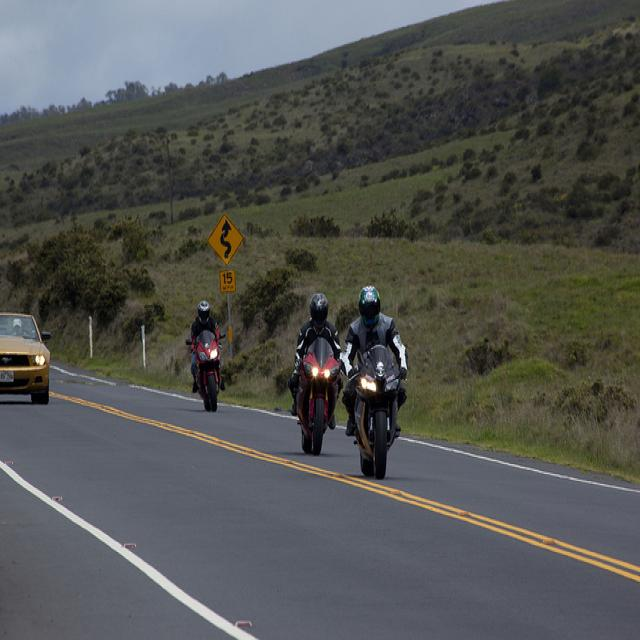motor: (351, 344, 401, 480), (295, 335, 340, 457), (187, 332, 226, 413)
